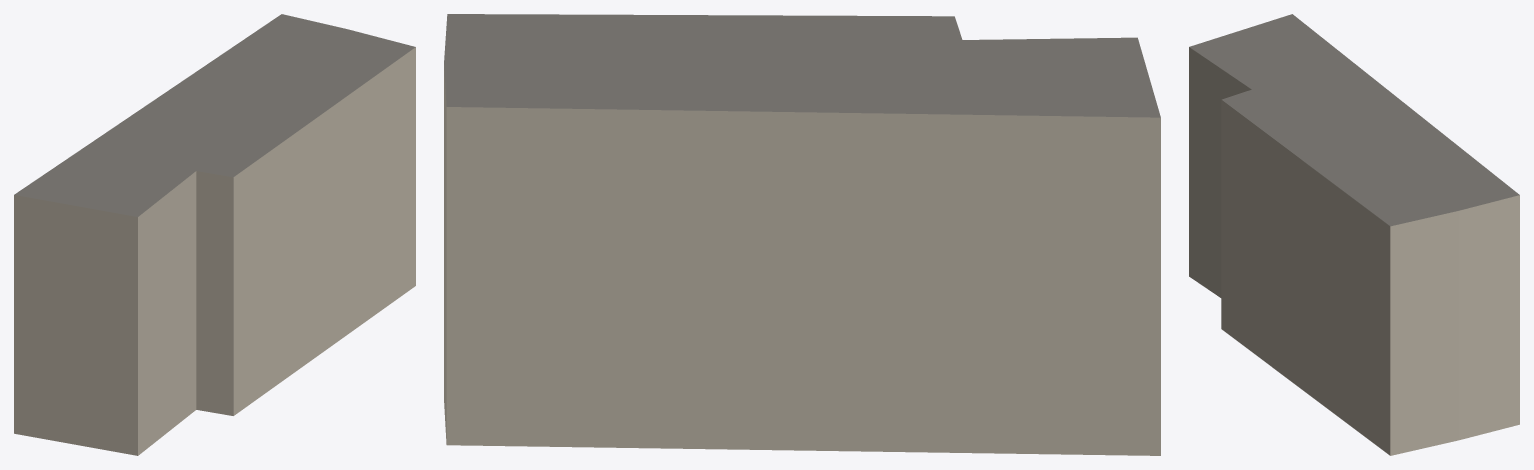
The picture shows the model from 3 angles, left to right: view 1: azimuth 30°, elevation 25°; view 2: azimuth 150°, elevation 25°; view 3: azimuth 270°, elevation 25°; orthographic projection. The views are drawn at different scales.
Parts seen in each view (by area): view 1: HP-w1198530147; view 2: HP-w1198530147; view 3: HP-w1198530147.
Part boxes in pixels (left/top/right/bottom): HP-w1198530147: left=14, top=14, right=415, bottom=455; HP-w1198530147: left=444, top=14, right=1160, bottom=455; HP-w1198530147: left=1189, top=14, right=1519, bottom=455.
Size of the model in its own units: 35.71 by 18 by 23.52.
